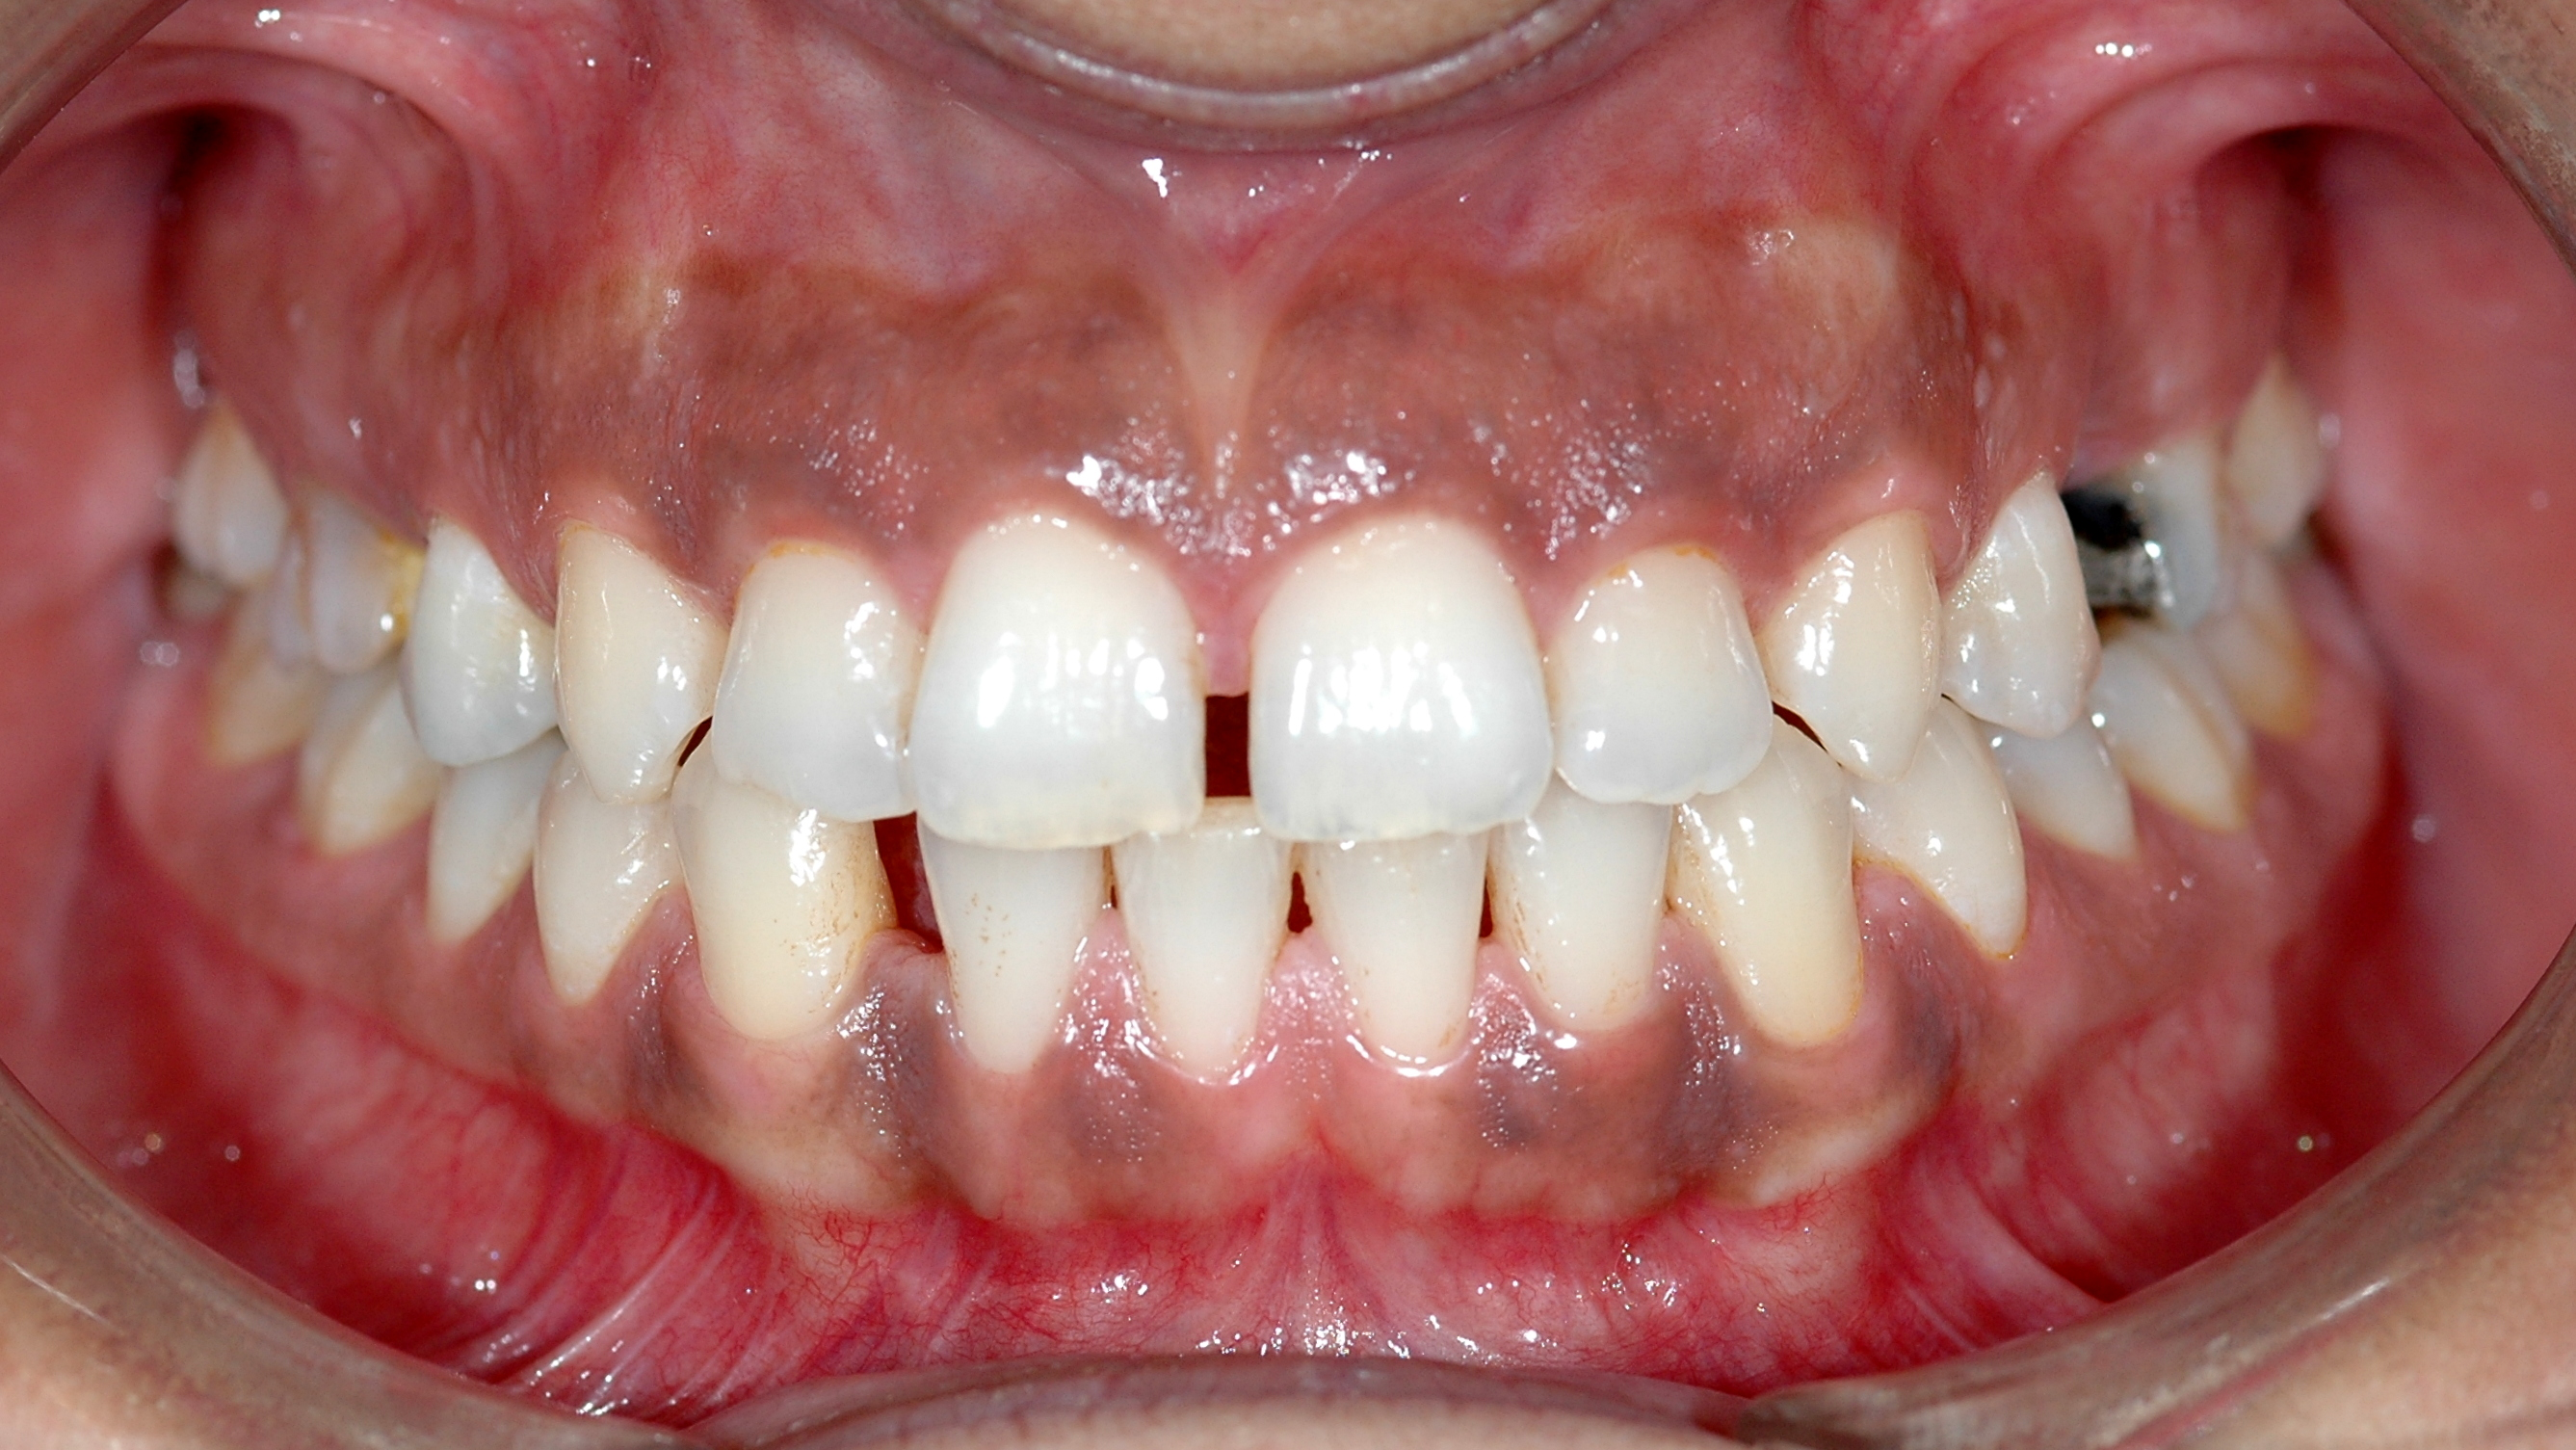UL1BC_healthy: (1951, 494, 2097, 728)
ULCI_healthy: (1249, 522, 1552, 836)
ULC_healthy: (1773, 515, 1941, 774)
ULLI_healthy: (1560, 554, 1771, 795)
UR1BC_healthy: (425, 529, 554, 765)
UR2BC_mdecay: (306, 505, 418, 678)
URCI_healthy: (911, 524, 1207, 846)
URC_healthy: (556, 528, 708, 795)
URLI_healthy: (713, 549, 911, 816)
